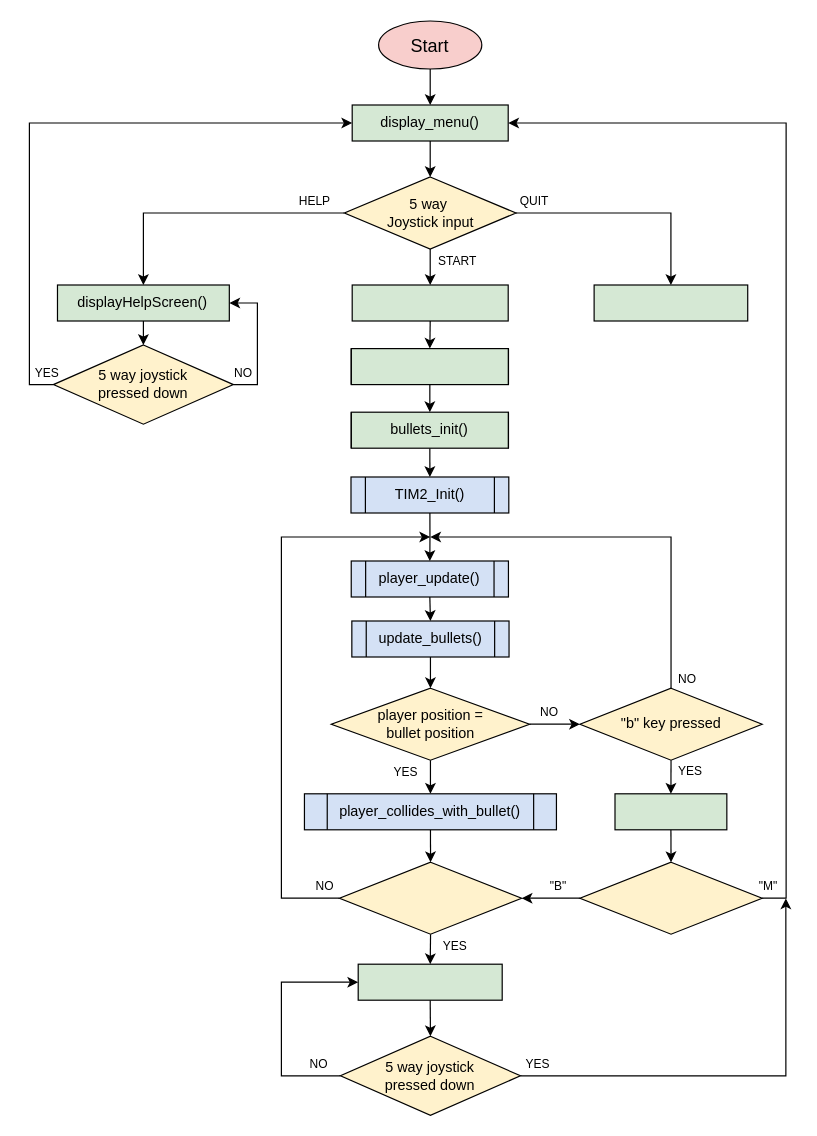
The diagram is 817 pixels wide and 1136 high, and some of its shapes have lost their labels. The centre of each missing label's shape, as x and y in pixels:
"Exiting game ...": pixel 670 302
"m"/"b" key pressed: pixel 670 897
game_init(): pixel 429 302
game_over_init(): pixel 429 981
p.lives <= 0: pixel 430 897
pause_init(): pixel 670 811
player_init(): pixel 429 366
